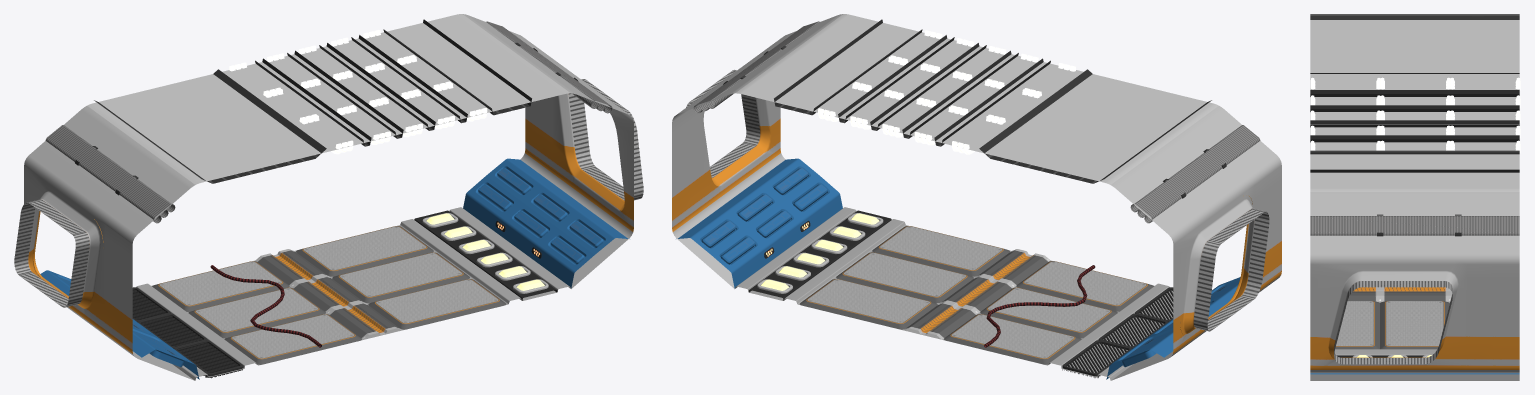
The model's file is MOD_3.fbx.
3 renders of one model, left to right at view 1: azimuth 30°, elevation 25°; view 2: azimuth 150°, elevation 25°; view 3: azimuth 270°, elevation 25°, orthographic. The views are drawn at different scales.
Visible parts, largest first — view 1: MOD_3; view 2: MOD_3; view 3: MOD_3.
Part boxes in pixels (x1,y1,x2,y2): MOD_3: [14, 14, 643, 380]; MOD_3: [672, 14, 1281, 380]; MOD_3: [1310, 14, 1520, 380].
Size of the model in its own units: 8.72 by 3.09 by 3.02.
3 materials, 1 textured.
